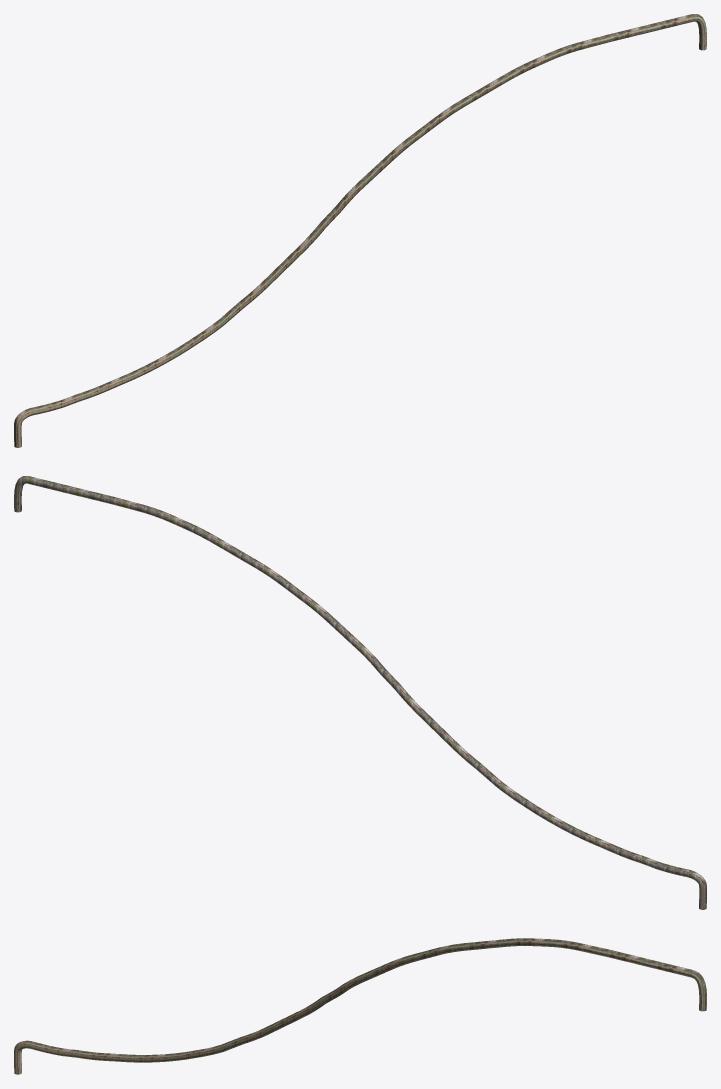
3 views of the same model, one above another, from view 1: azimuth 30°, elevation 25°; view 2: azimuth 150°, elevation 25°; view 3: azimuth 330°, elevation 25° (orthographic).
Visible parts, largest first — view 1: Line001; view 2: Line001; view 3: Line001.
Part boxes in pixels (bbox=[...]): Line001: bbox=[14, 14, 706, 447]; Line001: bbox=[14, 476, 706, 909]; Line001: bbox=[14, 938, 706, 1074].
Bounding box in the file's own units: 1542 × 569 × 15.
